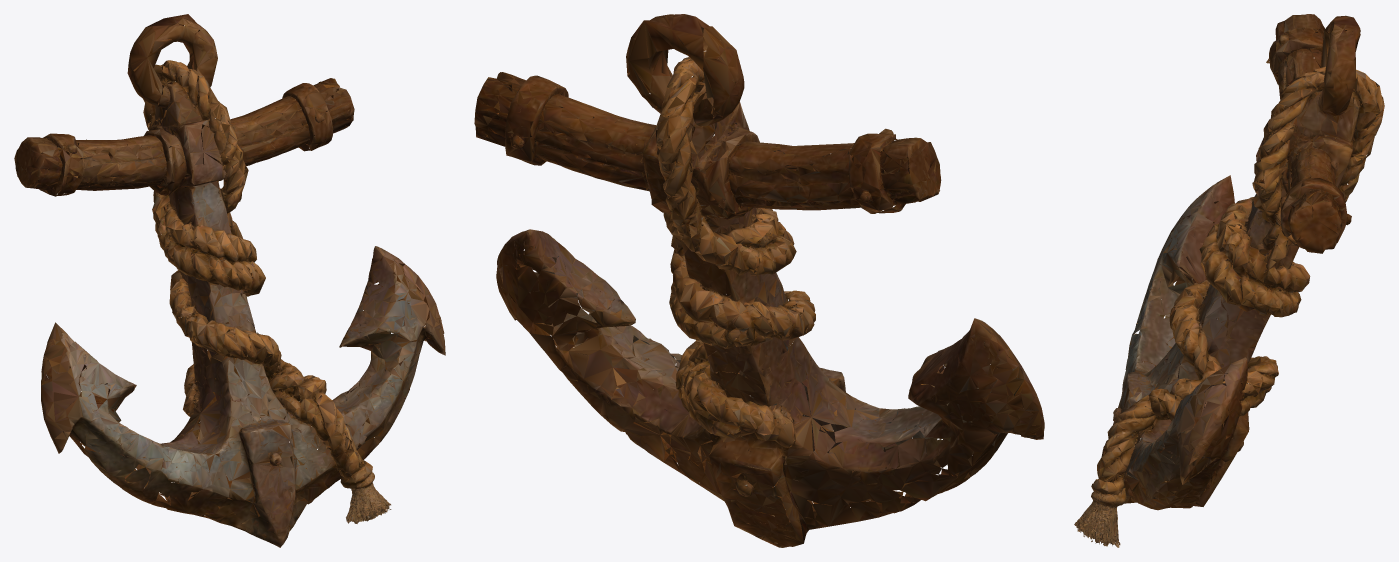
The model's file is ship-anchor.glb.
3 renders of one model, left to right at view 1: azimuth 30°, elevation 25°; view 2: azimuth 150°, elevation 25°; view 3: azimuth 270°, elevation 25°, orthographic. The views are drawn at different scales.
Parts seen in each view (by area): view 1: ship-anchor; view 2: ship-anchor; view 3: ship-anchor.
Boxes of the visible parts, left/top/right/bottom form: ship-anchor: left=14, top=14, right=445, bottom=547; ship-anchor: left=474, top=14, right=1044, bottom=547; ship-anchor: left=1074, top=14, right=1384, bottom=547.
Bounding box in the file's own units: 4.5 × 4.8 × 2.79.
1 material, 1 textured.
